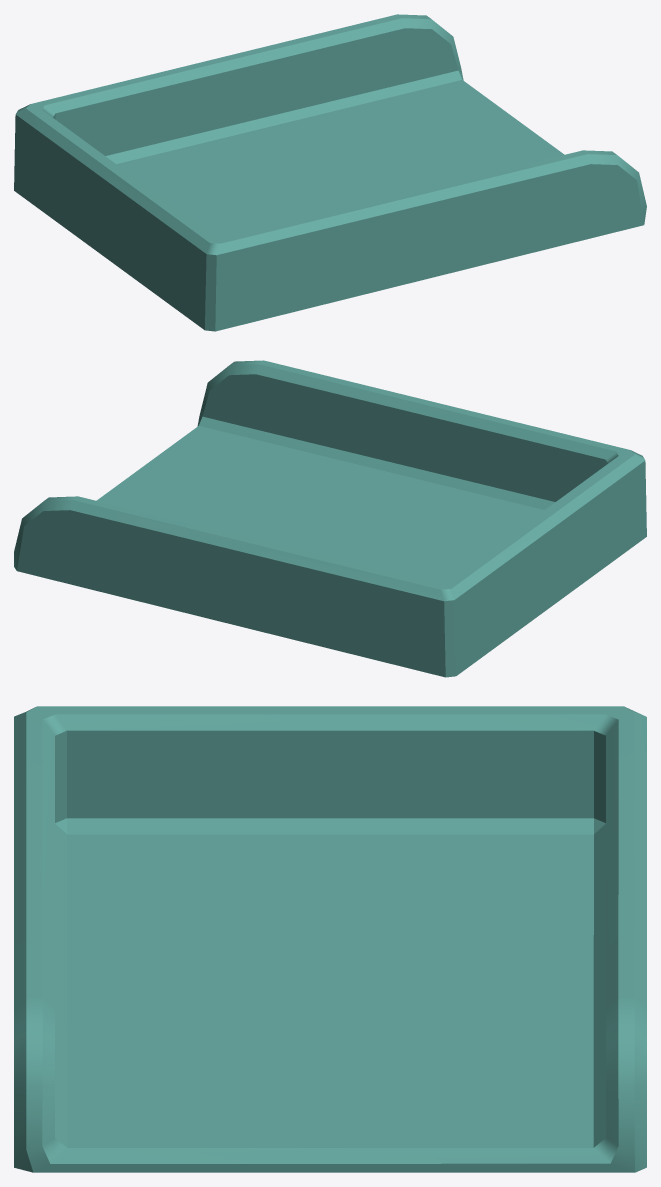
File: SM_PaperBac.fbx
The picture shows the model from 3 angles, top to bottom: view 1: azimuth 30°, elevation 25°; view 2: azimuth 150°, elevation 25°; view 3: azimuth 270°, elevation 25°; orthographic projection. The views are drawn at different scales.
Visible parts, largest first — view 1: SM_PaperBac; view 2: SM_PaperBac; view 3: SM_PaperBac.
Boxes of the visible parts, <box> form: SM_PaperBac: <box>14,14,646,331</box>; SM_PaperBac: <box>14,360,646,677</box>; SM_PaperBac: <box>14,706,646,1172</box>.
Bounding box in the file's own units: 32.15 × 5.75 × 25.
